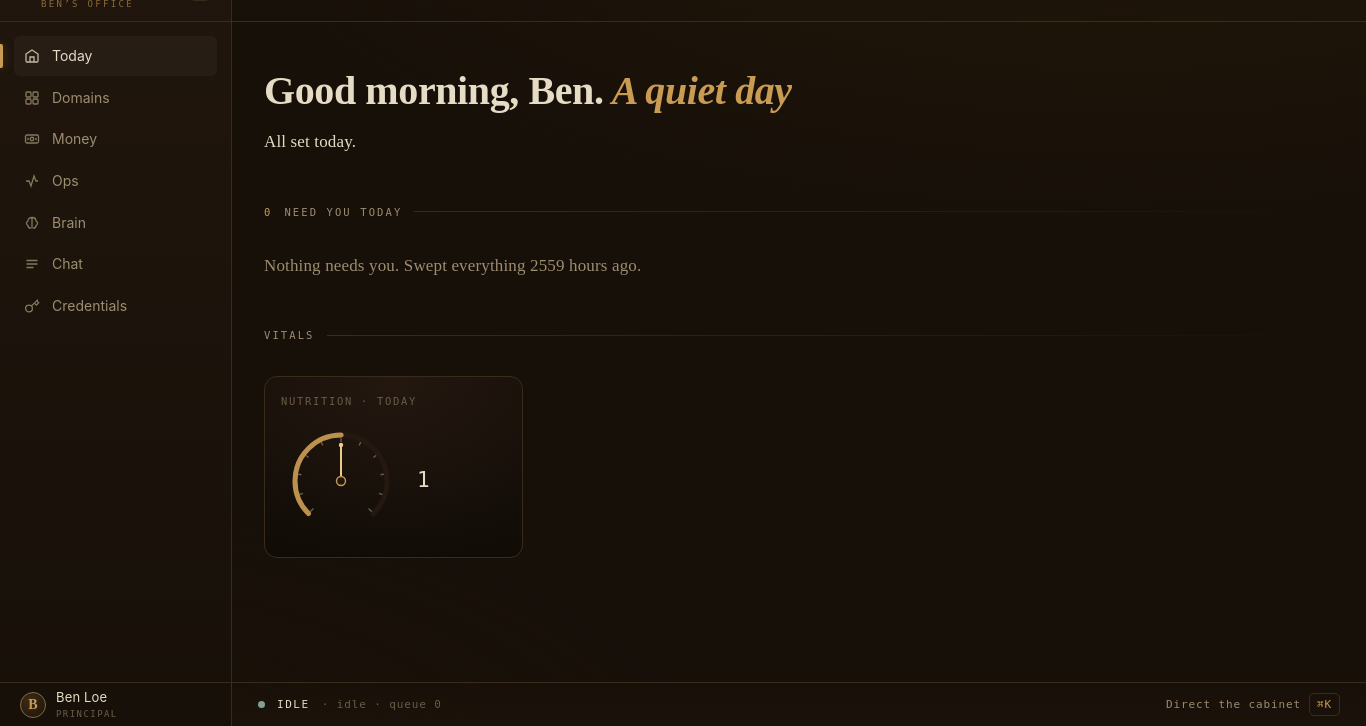
Test case: Cabinet v2 console — integration › navigating updates the URL
expect the heading "Good morning, Ben. A quiet day" is shown: met, box [264,68,792,113]
Click the button "Ops": {"x": 116, "y": 181} [14,161,217,201]
(page scrolled)
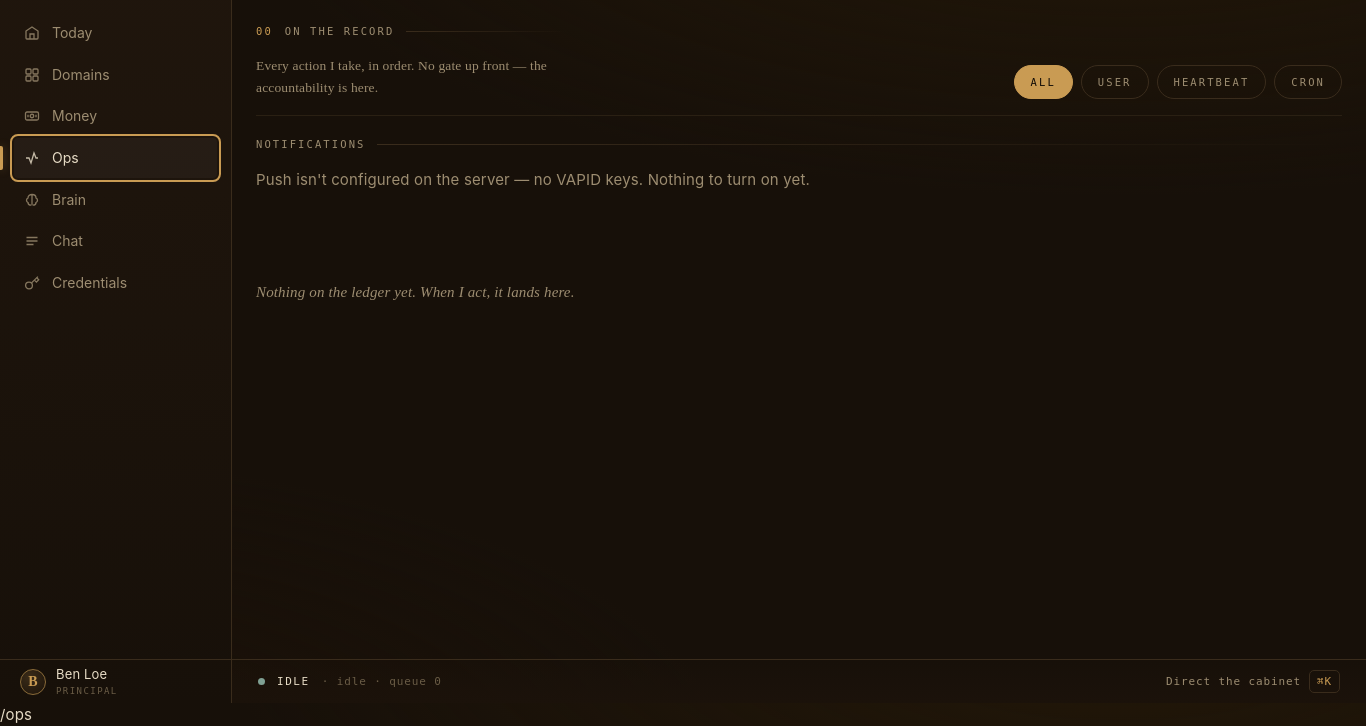
expect the text with test id "location" reads "/ops": met, box [0,705,32,724]
